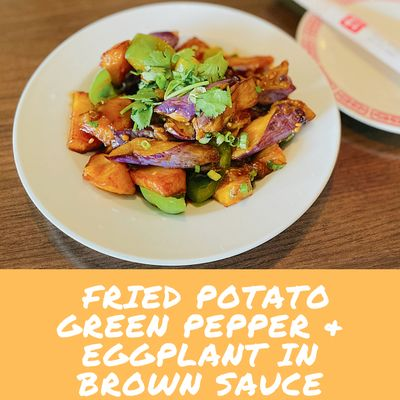curry: (11, 1, 399, 267)
